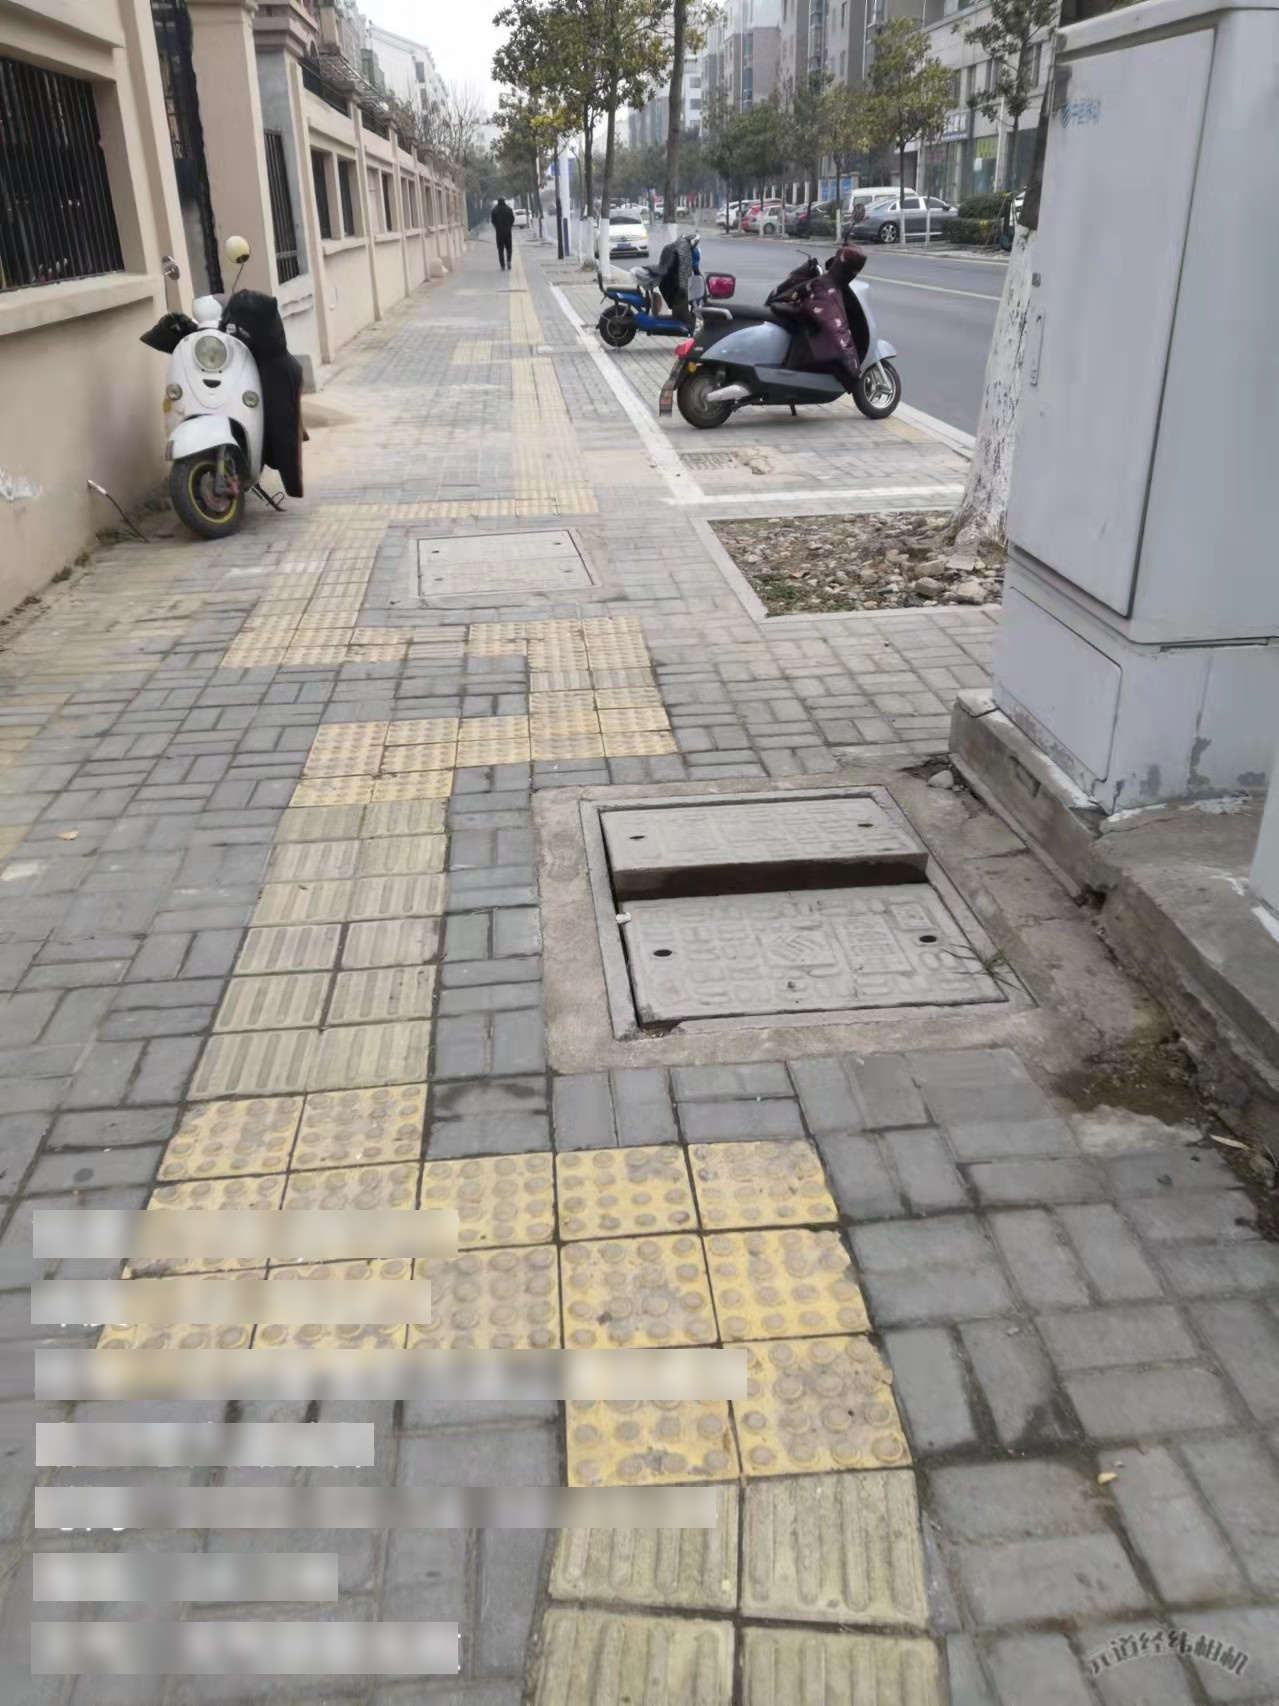good: (404, 527, 606, 609)
uncovered: (578, 780, 1039, 1033)
